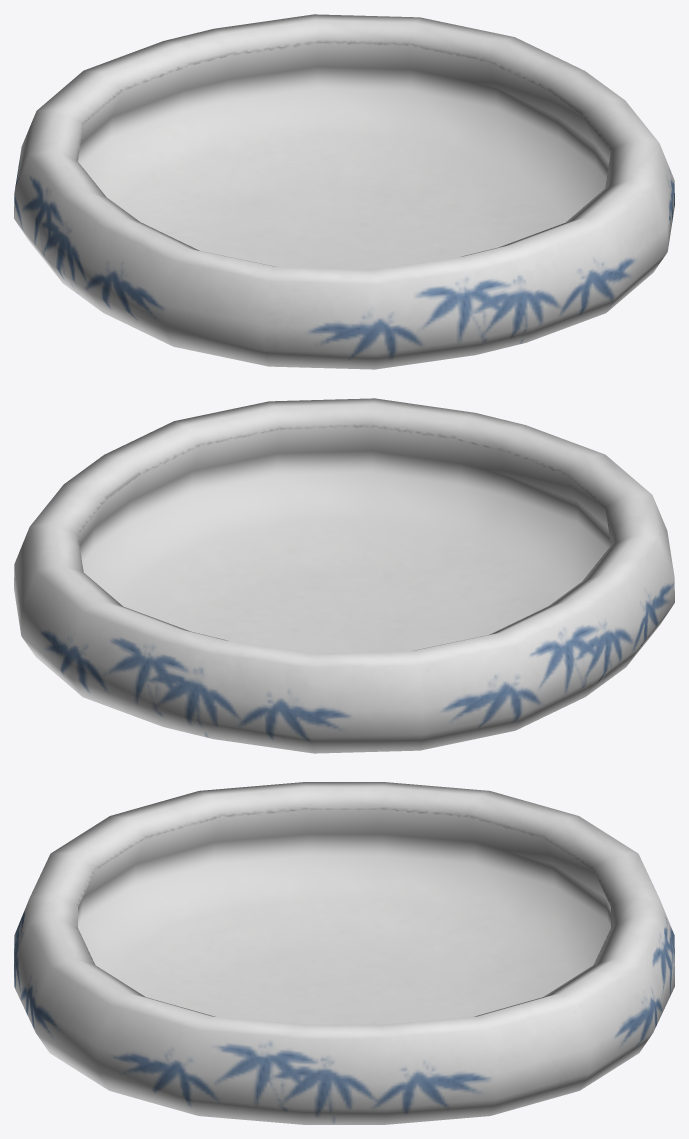
File: jov_porcelain06b.fbx
3 renders of one model, top to bottom at view 1: azimuth 30°, elevation 25°; view 2: azimuth 150°, elevation 25°; view 3: azimuth 270°, elevation 25°, orthographic.
Parts seen in each view (by area): view 1: jov_porcelain06b; view 2: jov_porcelain06b; view 3: jov_porcelain06b.
Boxes of the visible parts, <box> form: jov_porcelain06b: <box>14,14,674,369</box>; jov_porcelain06b: <box>14,398,674,753</box>; jov_porcelain06b: <box>14,782,674,1124</box>.
Size of the model in its own units: 0.387 by 0.0727 by 0.4015.
